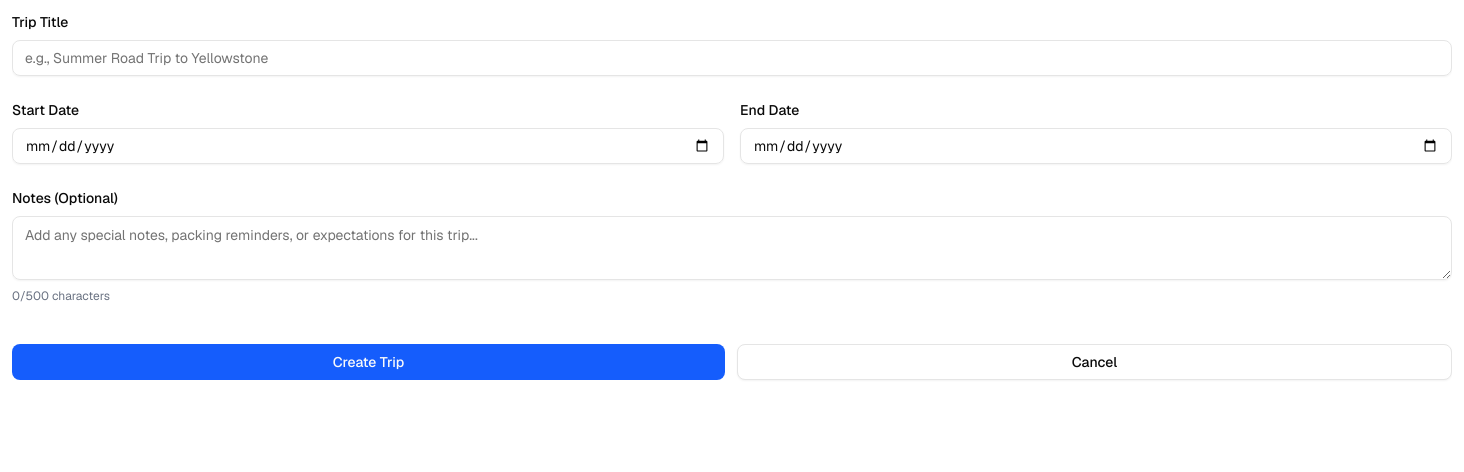
it: TripForm Component › Form Reset Behavior › should clear errors when form is reset
Note: Trigger errors
What coordinates should you click on to do the following:
click the button "Create Trip"
I would click on:
 (368, 362)
Its box is [12, 344, 725, 380].
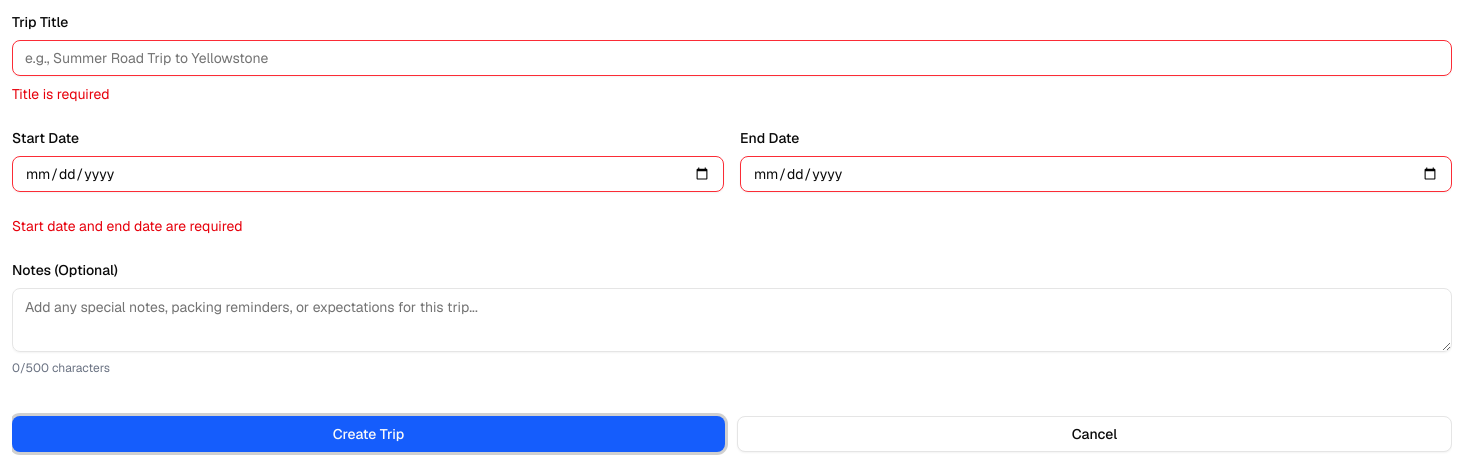
Now the text "Title is required" is shown, box [12, 85, 110, 103]
Note: Cancel to reset
What coordinates should you click on to do the following:
click the button "Cancel"
I would click on:
 (1094, 434)
Its box is [737, 416, 1452, 452].
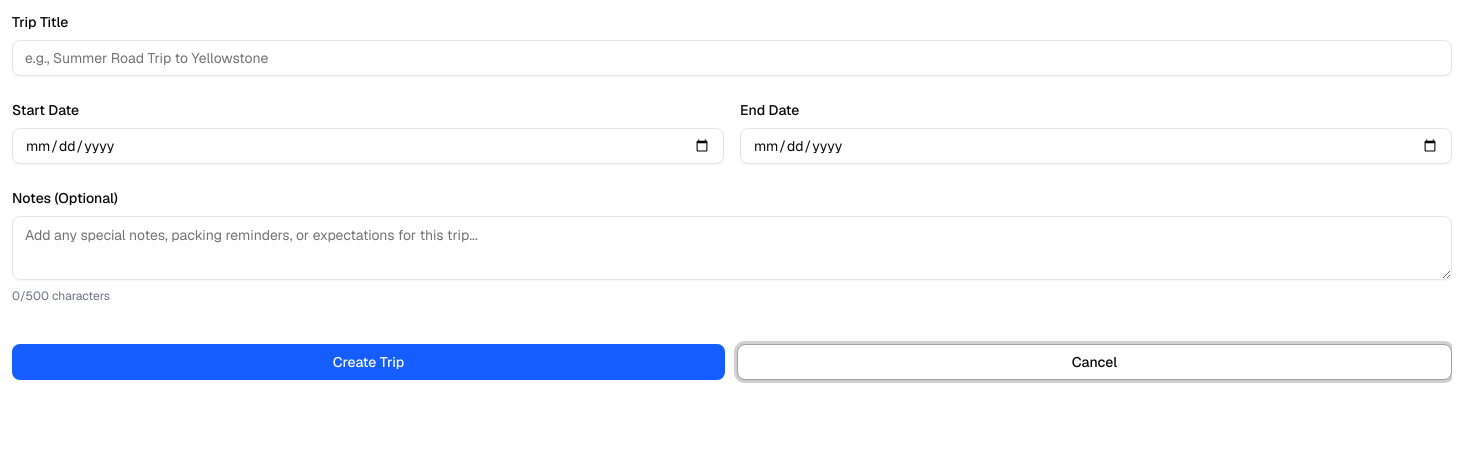
Now the text "Title is required" is gone
